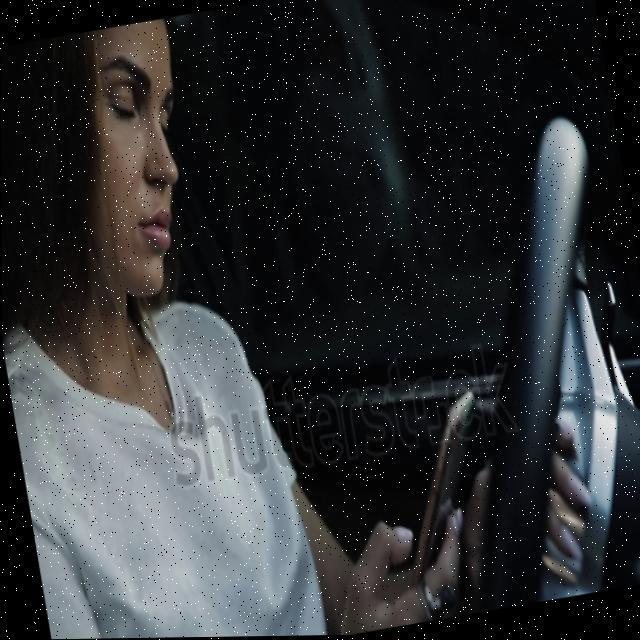PhoneCall: (384, 392, 502, 592)
